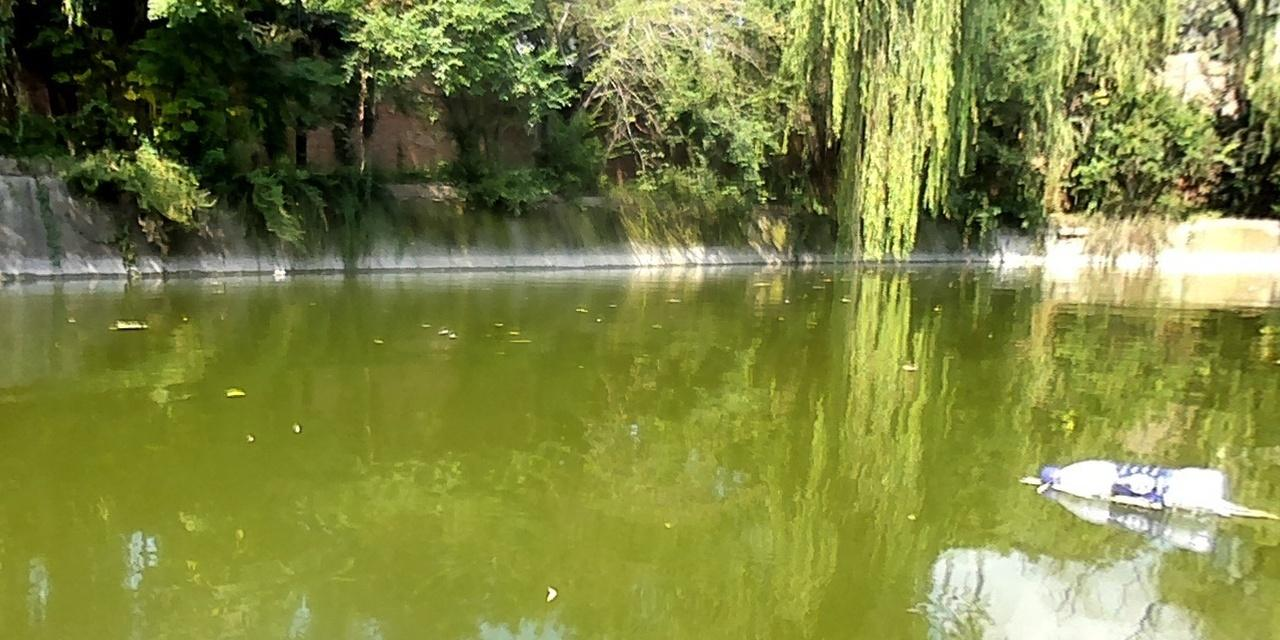bottle: (1036, 452, 1231, 522)
